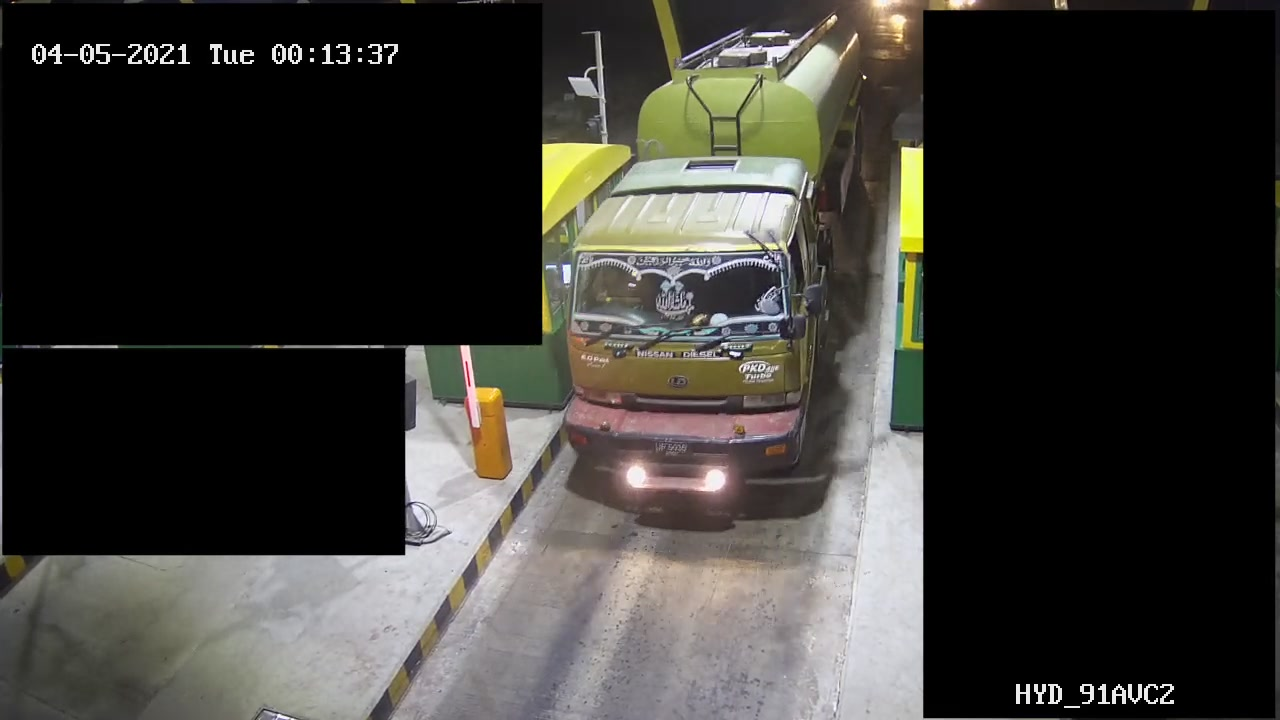F6: (545, 6, 872, 541)
